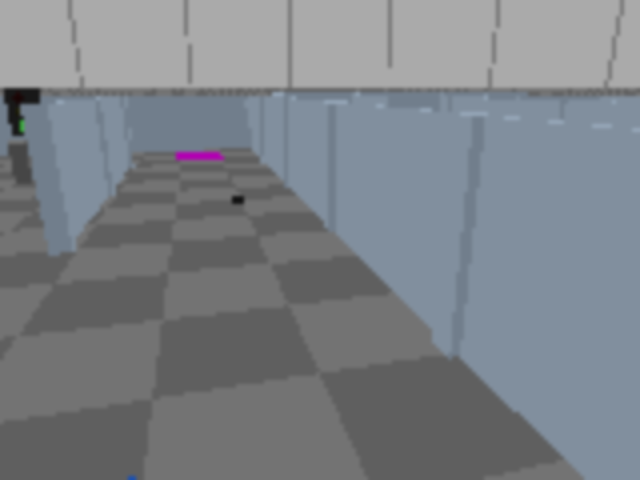obstacle: (7, 139, 47, 184)
